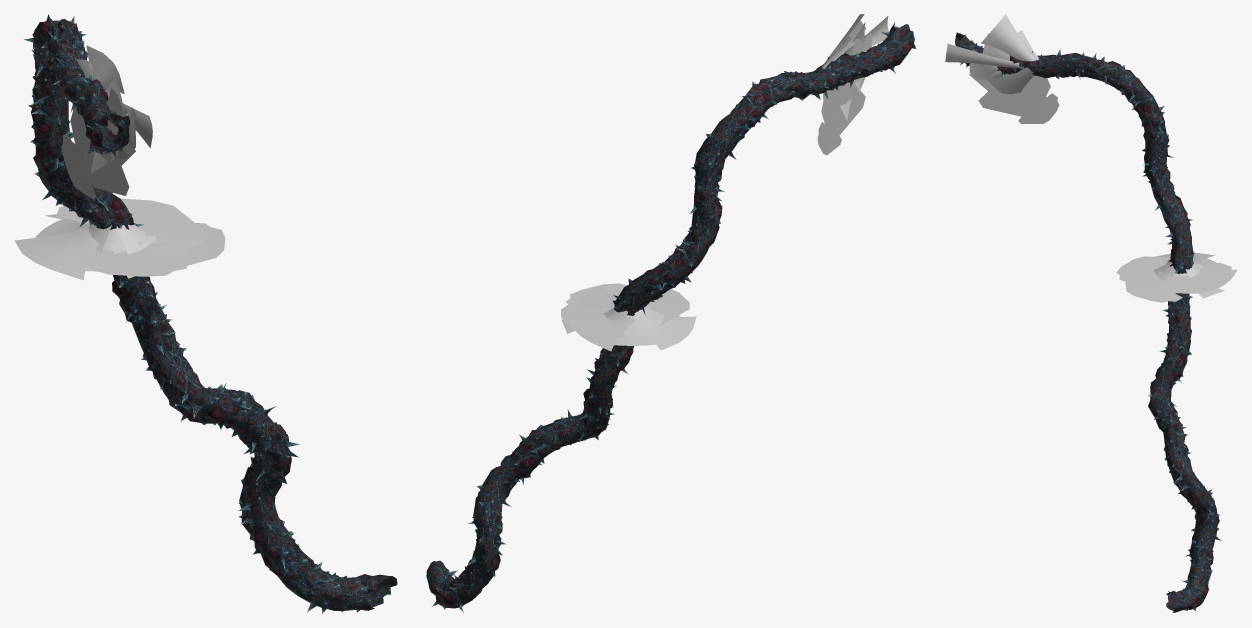
Rendered from L03_Heltree17.fbx.
The picture shows the model from 3 angles, left to right: view 1: azimuth 30°, elevation 25°; view 2: azimuth 150°, elevation 25°; view 3: azimuth 270°, elevation 25°; orthographic projection. The views are drawn at different scales.
Visible parts, largest first — view 1: LODGroup_3_MainMesh_1_SubMesh_1, LODGroup_3_MainMesh_2_SubMesh_1, LODGroup_3_MainMesh_2_SubMesh_2; view 2: LODGroup_3_MainMesh_2_SubMesh_1, LODGroup_3_MainMesh_2_SubMesh_2, LODGroup_3_MainMesh_1_SubMesh_1; view 3: LODGroup_3_MainMesh_1_SubMesh_1, LODGroup_3_MainMesh_2_SubMesh_1, LODGroup_3_MainMesh_2_SubMesh_2.
Boxes of the visible parts, x1,y1,x2,y2 form: LODGroup_3_MainMesh_1_SubMesh_1: (14,45,225,280); LODGroup_3_MainMesh_2_SubMesh_1: (23,14,397,612); LODGroup_3_MainMesh_2_SubMesh_2: (31,21,383,613); LODGroup_3_MainMesh_2_SubMesh_1: (426,24,914,612); LODGroup_3_MainMesh_2_SubMesh_2: (439,22,916,609); LODGroup_3_MainMesh_1_SubMesh_1: (561,14,888,351); LODGroup_3_MainMesh_1_SubMesh_1: (945,14,1237,302); LODGroup_3_MainMesh_2_SubMesh_1: (955,32,1221,612); LODGroup_3_MainMesh_2_SubMesh_2: (955,39,1219,612).
Size of the model in its own units: 2073 by 3237 by 1805.
